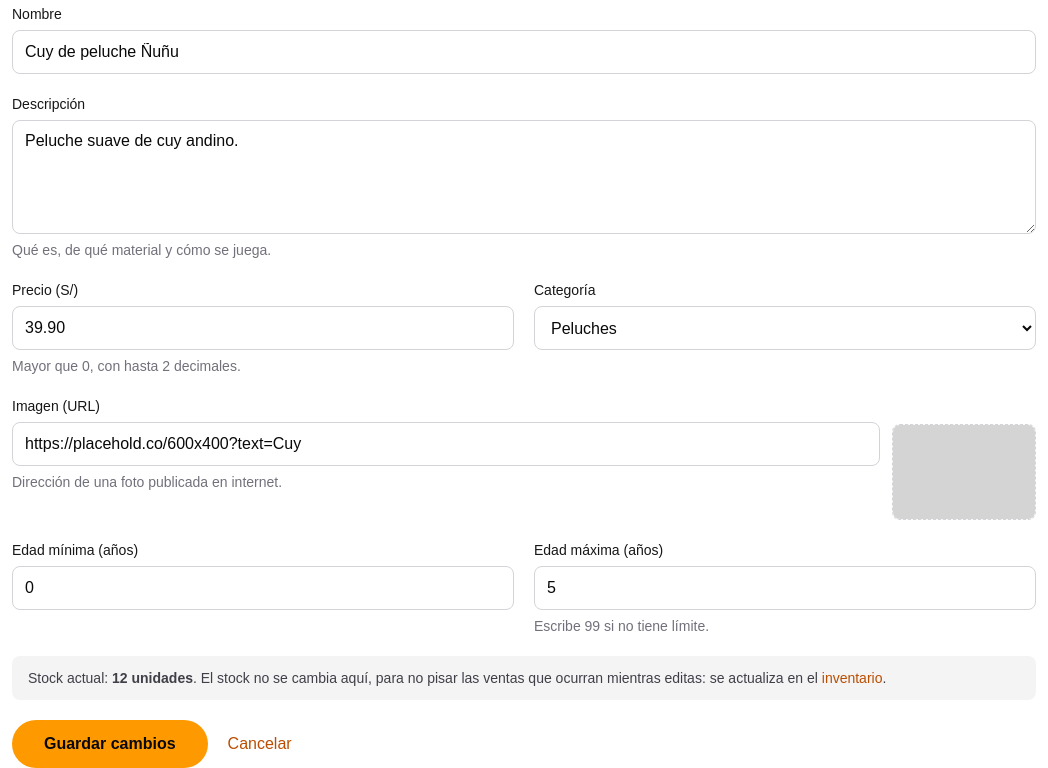
Test case: FormularioJuguete (HU-12) › si la cuenta no es de administrador (403), muestra que no tiene acceso
(page scrolled)
Click the button "Guardar cambios" at (110, 744), box [12,720,208,767]
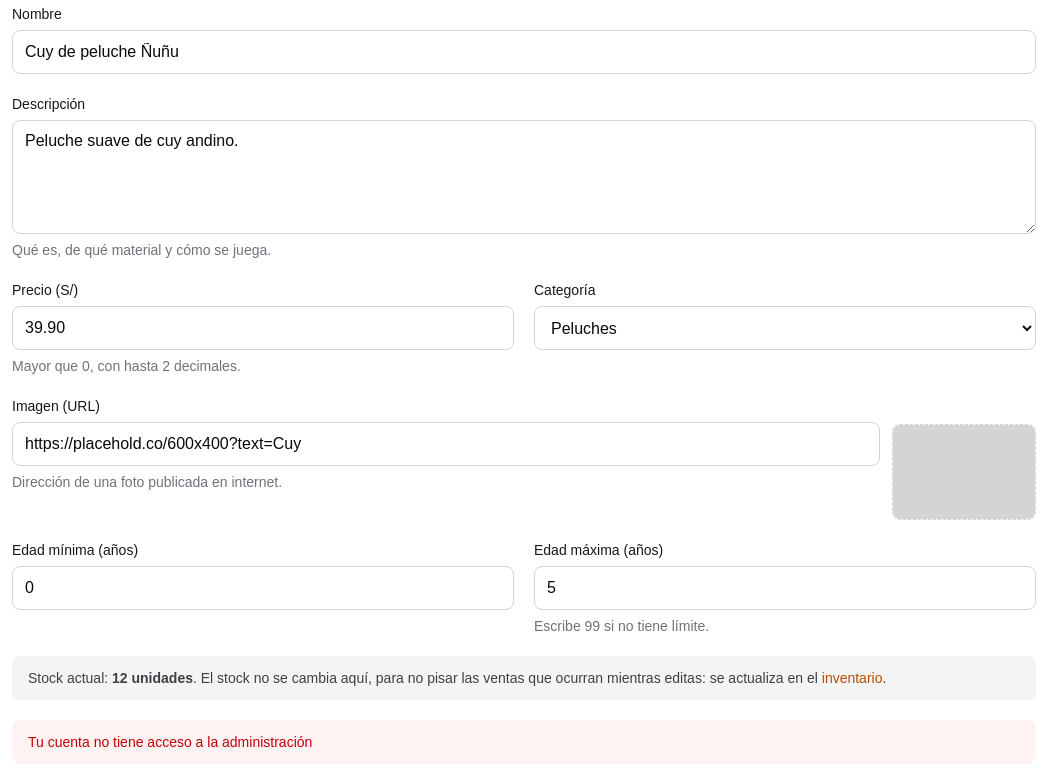
Result: the text "Tu cuenta no tiene acceso a la administración" is shown at [12,720,1036,764]
